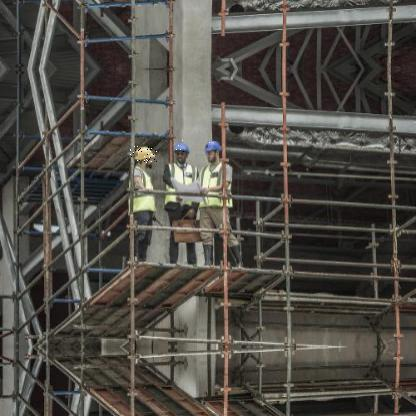safetyhelmet: (130, 146, 158, 164), (170, 140, 192, 154), (206, 142, 224, 156)
